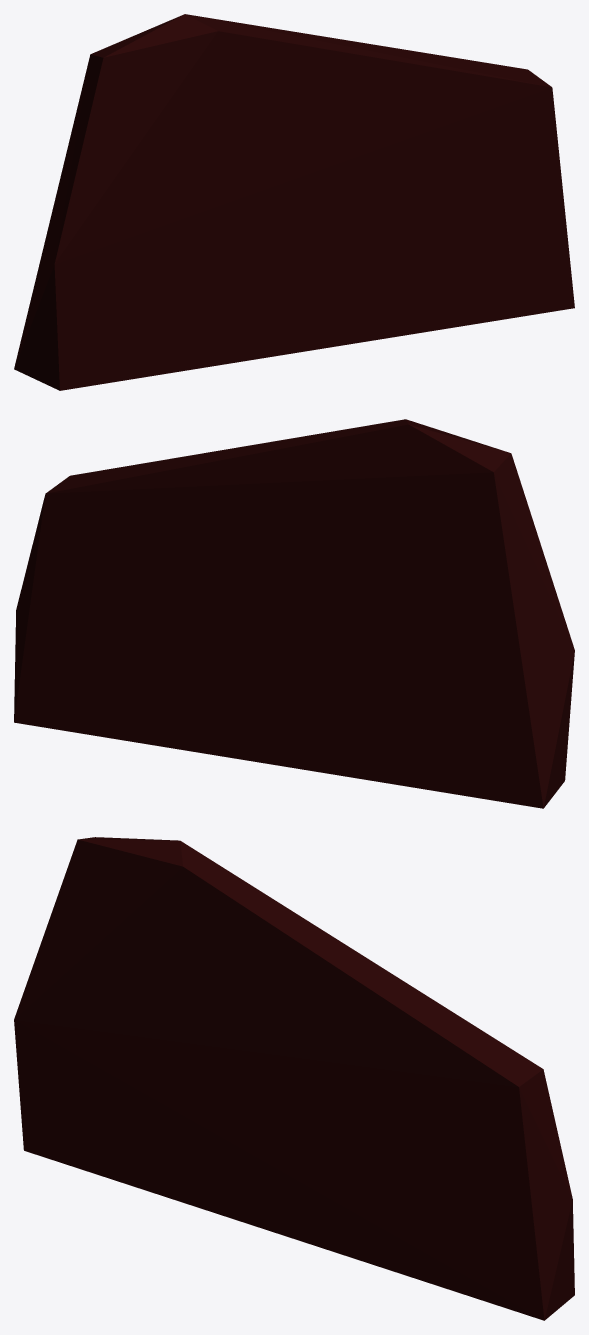
The model's file is UCX_Castle_Wall_G.fbx.
The picture shows the model from 3 angles, top to bottom: view 1: azimuth 30°, elevation 25°; view 2: azimuth 150°, elevation 25°; view 3: azimuth 330°, elevation 25°; orthographic projection.
Parts seen in each view (by area): view 1: UCX_Castle_Wall_G; view 2: UCX_Castle_Wall_G; view 3: UCX_Castle_Wall_G.
Part boxes in pixels (x1,y1,x2,y2): UCX_Castle_Wall_G: (14,14,574,390); UCX_Castle_Wall_G: (14,419,574,808); UCX_Castle_Wall_G: (14,837,574,1320).
Bounding box in the file's own units: 854 × 575 × 99.54.
